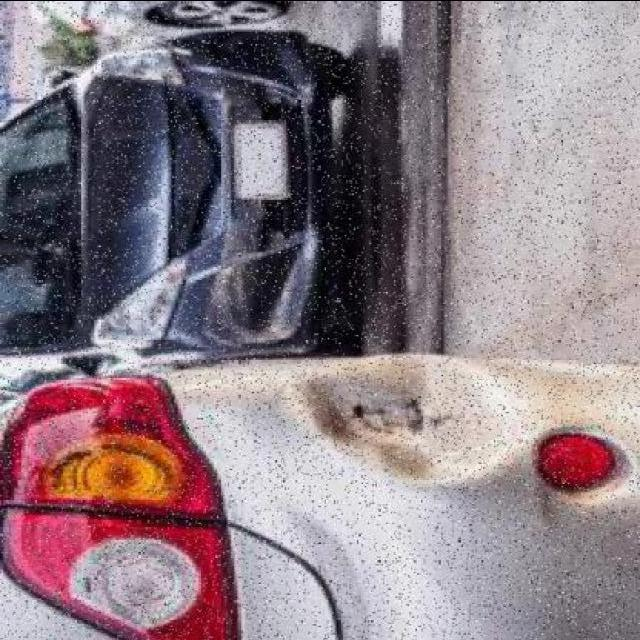rear-bumper-dent: (209, 333, 636, 640)
